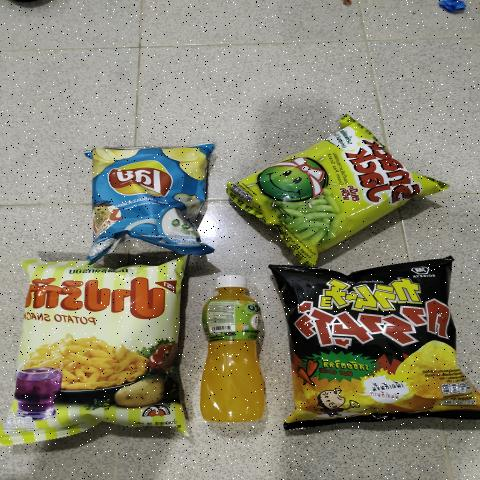karamujo: (301, 269, 441, 414)
lay_blue: (93, 149, 194, 246)
paprika: (25, 269, 168, 434)
snack_jack: (231, 125, 410, 239)
